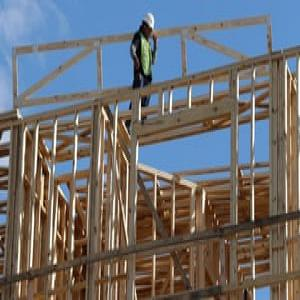white: (143, 11, 155, 38)
